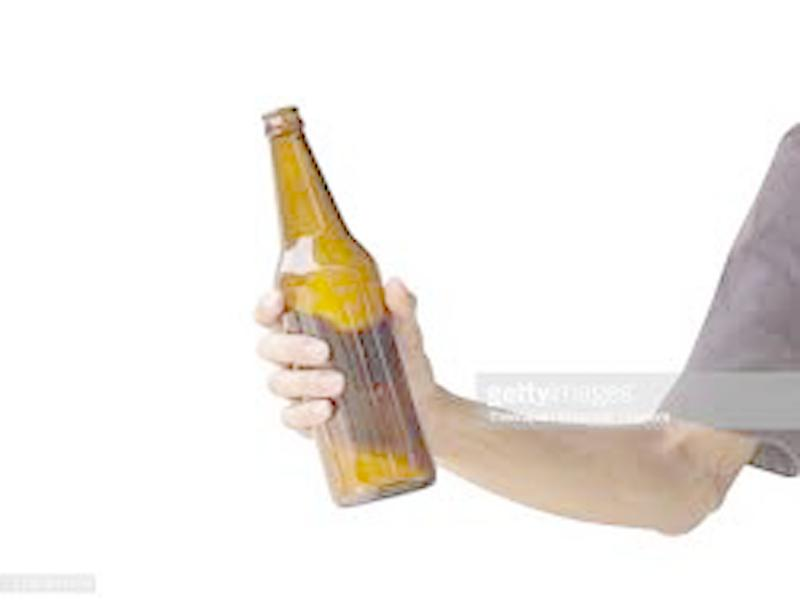Beer: (261, 107, 440, 504)
